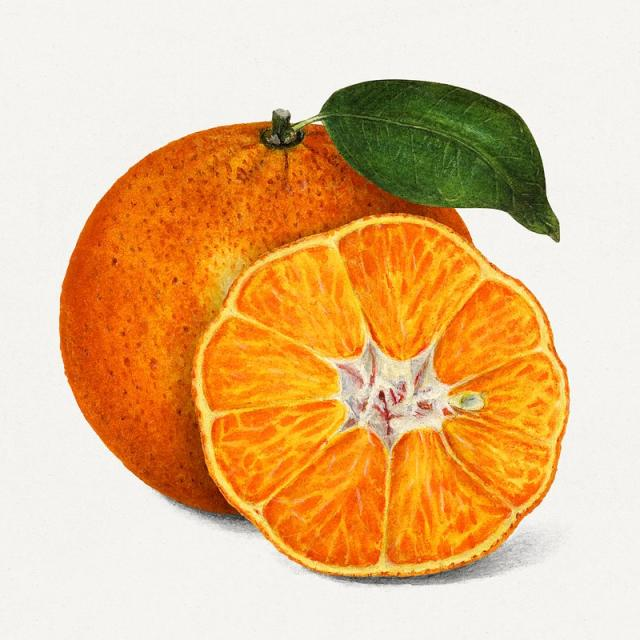orange: (194, 218, 562, 567)
